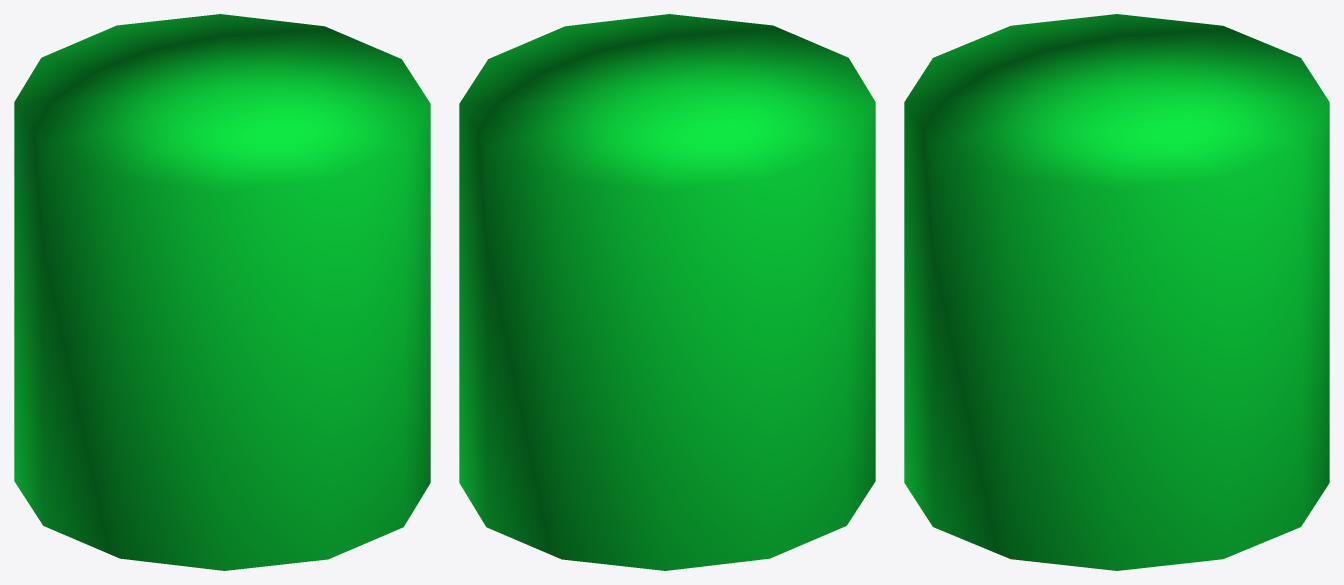
Rendered from Cabinet_Leg_Base_A.fbx.
3 views of the same model, side by side, from view 1: azimuth 30°, elevation 25°; view 2: azimuth 150°, elevation 25°; view 3: azimuth 270°, elevation 25° (orthographic).
Visible parts, largest first — view 1: Cabinet_Leg_Base_A; view 2: Cabinet_Leg_Base_A; view 3: Cabinet_Leg_Base_A.
Part boxes in pixels (x1,y1,x2,y2): Cabinet_Leg_Base_A: [14, 14, 430, 570]; Cabinet_Leg_Base_A: [459, 14, 875, 570]; Cabinet_Leg_Base_A: [904, 14, 1329, 570].
Bounding box in the file's own units: 1.89 × 1.91 × 1.93.
